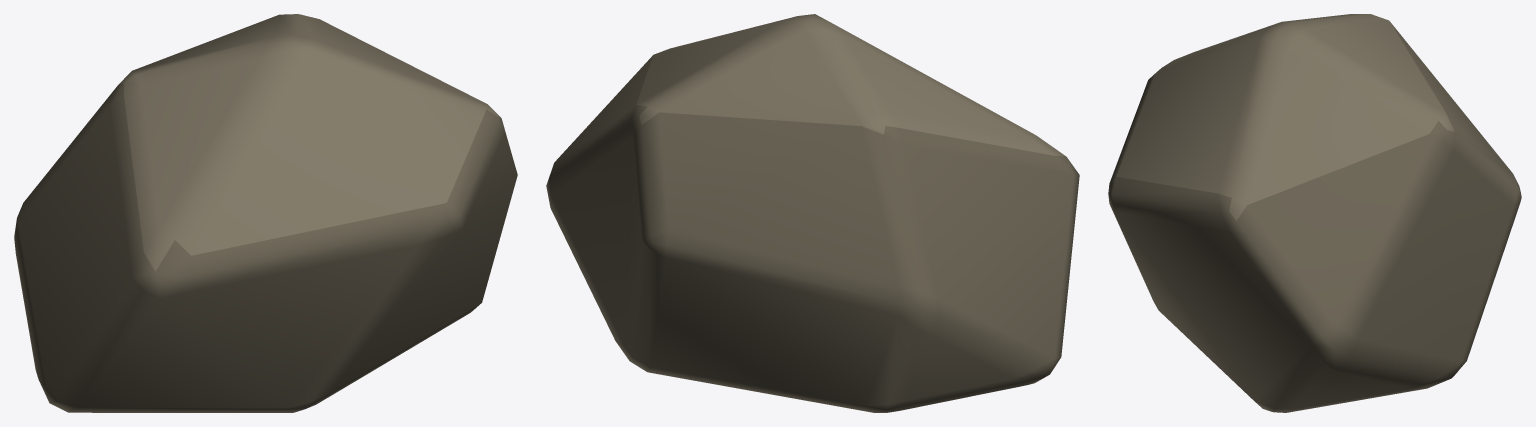
Rendered from SM_Stone_Medium_A.fbx.
The picture shows the model from 3 angles, left to right: view 1: azimuth 30°, elevation 25°; view 2: azimuth 150°, elevation 25°; view 3: azimuth 270°, elevation 25°; orthographic projection.
Visible parts, largest first — view 1: SM_Stone_Medium_A; view 2: SM_Stone_Medium_A; view 3: SM_Stone_Medium_A.
Part boxes in pixels (box(x1,y1,x2,y2)): SM_Stone_Medium_A: box(14, 14, 517, 412); SM_Stone_Medium_A: box(546, 14, 1079, 412); SM_Stone_Medium_A: box(1108, 14, 1521, 412).
Size of the model in its own units: 0.8704 by 0.5399 by 0.6494.
Materials: 1 (1 with a texture image).
